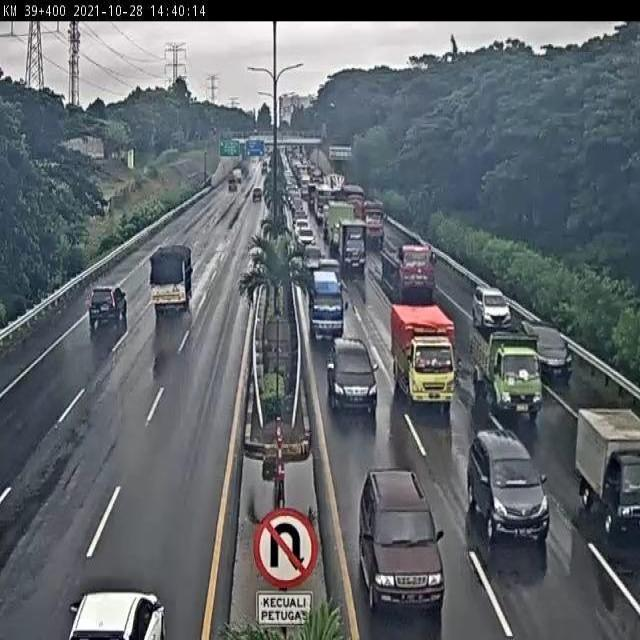Car: (342, 453, 461, 623), (468, 430, 550, 544), (66, 589, 166, 638), (523, 322, 574, 384), (88, 284, 128, 330), (473, 284, 511, 330), (310, 257, 342, 289)
Truck: (573, 412, 639, 542), (388, 302, 457, 411), (470, 324, 542, 421), (587, 530, 639, 626), (258, 420, 310, 507), (326, 337, 378, 418), (379, 240, 435, 305), (148, 245, 192, 316), (306, 265, 344, 341), (152, 308, 192, 378), (262, 312, 294, 372), (336, 218, 368, 277), (90, 318, 128, 367), (324, 200, 355, 253), (325, 134, 357, 174), (362, 199, 386, 248), (400, 244, 436, 273), (286, 239, 308, 280), (379, 248, 398, 293), (315, 183, 336, 223), (366, 251, 384, 287), (302, 242, 322, 272), (290, 198, 308, 226), (261, 454, 279, 482), (282, 201, 294, 240), (280, 391, 296, 420), (65, 137, 87, 158), (248, 246, 264, 273), (294, 215, 311, 240), (325, 173, 346, 193), (93, 196, 111, 217), (346, 191, 364, 212), (288, 188, 302, 213), (294, 136, 322, 148), (34, 158, 61, 170), (300, 180, 313, 204), (297, 166, 311, 188), (268, 148, 281, 171), (410, 235, 427, 252), (291, 159, 303, 182), (247, 140, 264, 156), (232, 138, 246, 156), (219, 137, 234, 152), (311, 168, 323, 186), (322, 215, 330, 242), (66, 102, 84, 114), (275, 137, 296, 147), (170, 133, 182, 149), (285, 179, 296, 196), (285, 146, 296, 162), (228, 174, 238, 191), (232, 132, 246, 144), (232, 168, 242, 184), (248, 153, 260, 166), (252, 187, 262, 202), (239, 162, 248, 178), (88, 152, 104, 161), (397, 246, 405, 264), (255, 161, 264, 176), (85, 291, 92, 310), (128, 149, 134, 170), (321, 122, 328, 140), (265, 146, 273, 158), (203, 176, 211, 187), (210, 125, 218, 136), (262, 160, 268, 174), (381, 212, 388, 224), (252, 129, 260, 137), (204, 150, 208, 160)
